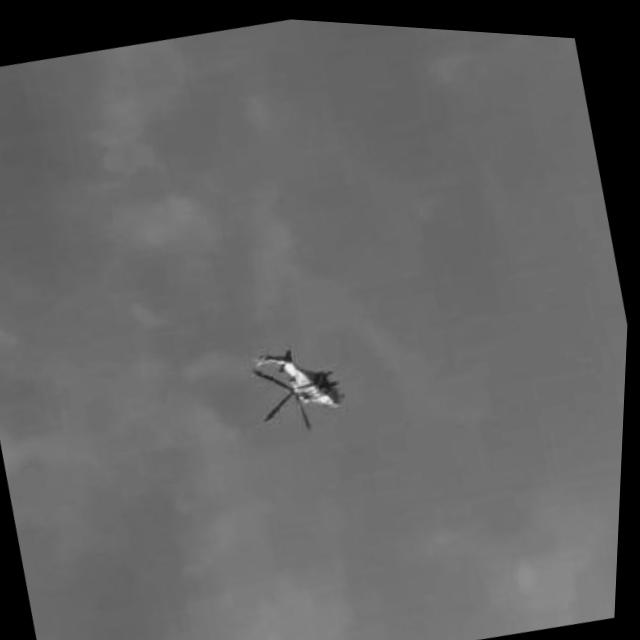helikopter: (232, 318, 372, 445)
